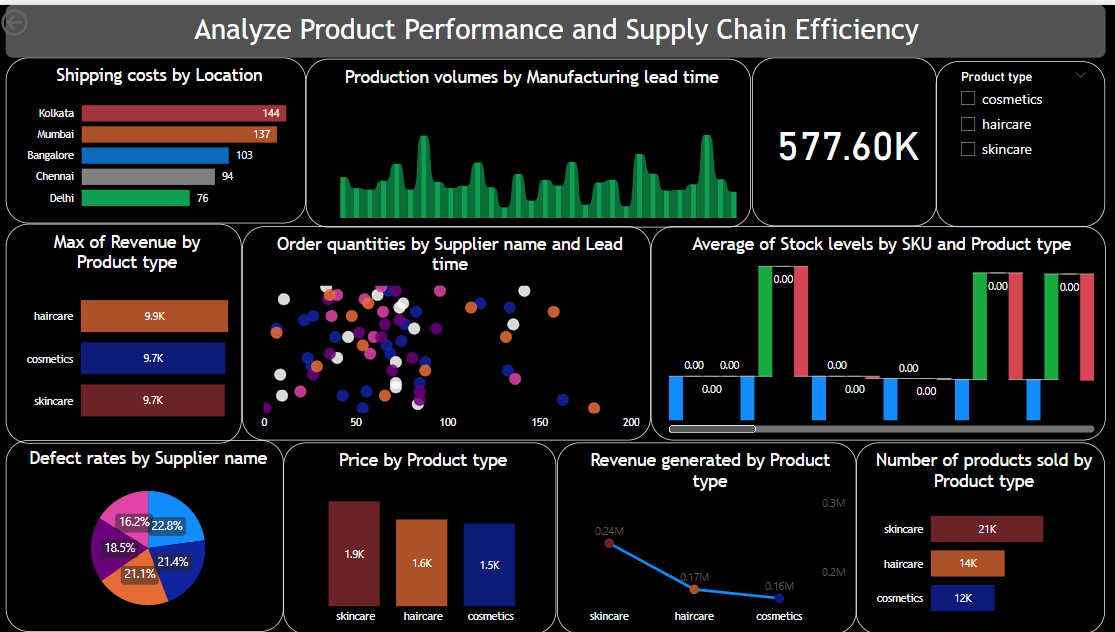

Layout of this report page (visuals, bound fields, positions):
{"tool":"powerbi","page":{"name":"Page 1","canvas":[1280,720],"ordinal":0},"visuals":[{"type":"barChart","title":"Number of products sold by Product type","fields":{"Category":["supply_chain_data.Product type"],"Y":["Sum(supply_chain_data.Number of products sold)"]},"box":[982.1,500.3,285.1,219.5],"z":0},{"type":"lineChart","title":" Revenue generated by Product type","fields":{"Y2":["Sum(supply_chain_data.Revenue generated)"],"Category":["supply_chain_data.Product type"]},"box":[640,500.3,342.1,219.5],"z":1000},{"type":"clusteredColumnChart","title":"Price by Product type","fields":{"Category":["supply_chain_data.Product type"],"Y":["Sum(supply_chain_data.Price)"]},"box":[327.8,500.3,312.2,219.5],"z":2000},{"type":"waterfallChart","fields":{"Category":["supply_chain_data.SKU"],"Breakdown":["supply_chain_data.Product type"],"Y":["Avg(supply_chain_data.Stock levels)"]},"box":[746.9,252.3,520.3,245.2],"z":3000},{"type":"scatterChart","title":" Order quantities by Supplier name and Lead time","fields":{"X":["Sum(supply_chain_data.Order quantities)"],"Y":["supply_chain_data.Lead time"],"Series":["supply_chain_data.Supplier name"]},"box":[279.4,252.3,467.5,245.2],"z":4000},{"type":"barChart","title":"Shipping costs by Location","fields":{"Category":["supply_chain_data.Location","supply_chain_data.Shipping carriers"],"Y":["Sum(supply_chain_data.Shipping costs)"]},"box":[10,59.9,343.5,189.6],"z":5000},{"type":"ribbonChart","title":"Production volumes by Manufacturing lead time","fields":{"Category":["supply_chain_data.Manufacturing lead time"],"Y":["Sum(supply_chain_data.Production volumes)"]},"box":[353.5,61.3,508.9,192.4],"z":6000},{"type":"pieChart","title":" Defect rates by Supplier name","fields":{"Y":["Sum(supply_chain_data.Defect rates)"],"Category":["supply_chain_data.Supplier name","supply_chain_data.Location"]},"box":[10,497.5,317.9,219.5],"z":7000},{"type":"card","fields":{"Values":["supply_chain_data.Total Revenue by Product Type"]},"box":[862.4,59.9,211,192.4],"z":8000},{"type":"actionButton","box":[0,0,100,40],"z":9000},{"type":"barChart","title":"Max of Revenue by Product type","fields":{"Y":["Max(supply_chain_data.Revenue generated)"],"Category":["supply_chain_data.Product type"]},"box":[10,249.4,269.4,250.9],"z":10000},{"type":"textbox","box":[10,0,1257.2,59.9],"z":10001},{"type":"slicer","fields":{"Values":["supply_chain_data.Product type"]},"box":[1073.3,64.1,193.9,189.6],"z":10002}]}

Visuals, with their boxes in screenshot pixels (x1, y1, x2, y2), scaled from the page's 1280x720 canvas onto the 1115x632 screenshot:
"Number of products sold by Product type" barChart: <bbox>856, 439, 1104, 631</bbox>
" Revenue generated by Product type" lineChart: <bbox>558, 439, 856, 631</bbox>
"Price by Product type" clusteredColumnChart: <bbox>286, 439, 558, 631</bbox>
waterfallChart - supply_chain_data.SKU x supply_chain_data.Product type: <bbox>651, 221, 1104, 437</bbox>
" Order quantities by Supplier name and Lead time" scatterChart: <bbox>243, 221, 651, 437</bbox>
"Shipping costs by Location" barChart: <bbox>9, 53, 308, 219</bbox>
"Production volumes by Manufacturing lead time" ribbonChart: <bbox>308, 54, 751, 223</bbox>
" Defect rates by Supplier name" pieChart: <bbox>9, 437, 286, 629</bbox>
card - supply_chain_data.Total Revenue by Product Type: <bbox>751, 53, 935, 221</bbox>
actionButton: <bbox>0, 0, 87, 35</bbox>
"Max of Revenue by Product type" barChart: <bbox>9, 219, 243, 439</bbox>
textbox: <bbox>9, 0, 1104, 53</bbox>
slicer - supply_chain_data.Product type: <bbox>935, 56, 1104, 223</bbox>
